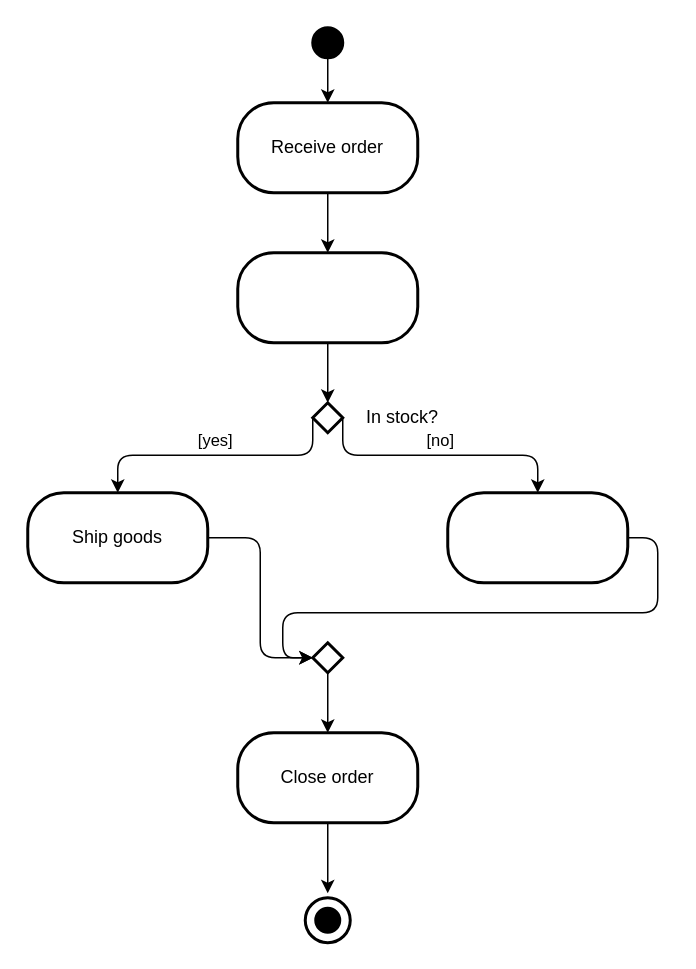
This 696x969 diagram has some shape labels left out. The centre of each missing label's shape, as x and y in pixels:
"Cancel order" goes at pixel 537 537.
"Check stock" goes at pixel 327 297.
